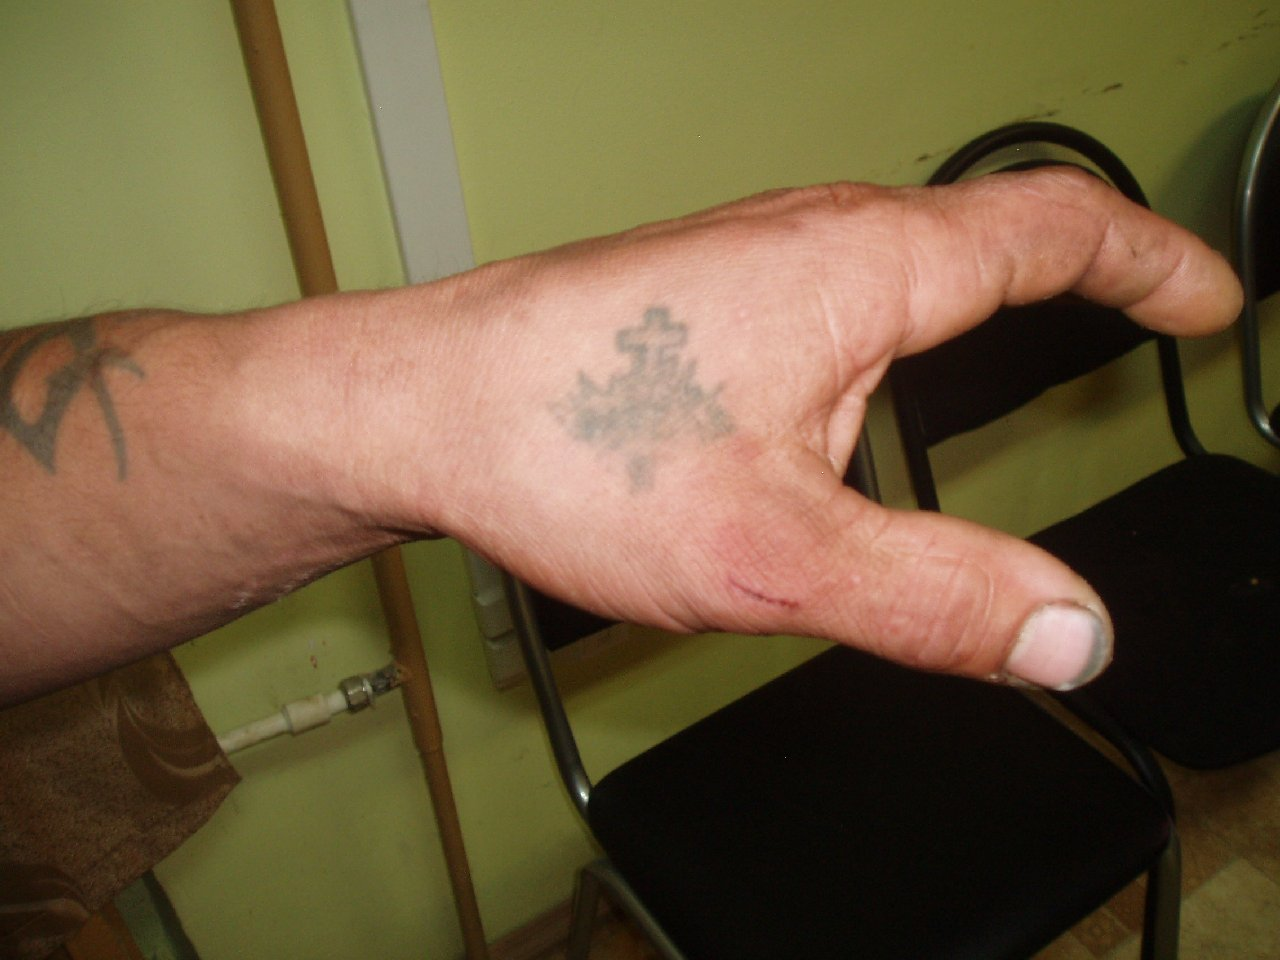tatu9_krest: (611, 299, 692, 386)
